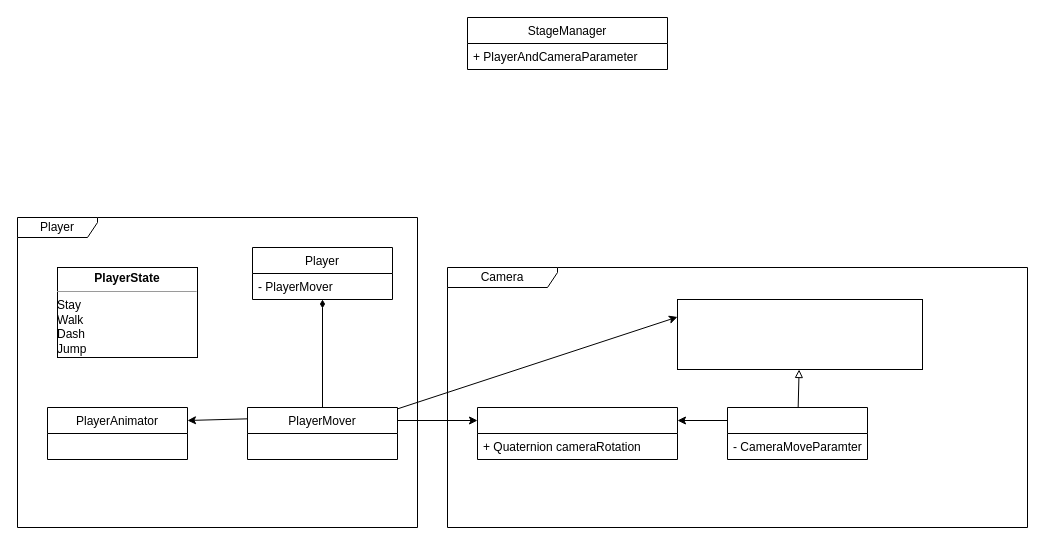
This 1045x545 diagram has some shape labels left out. The box of each missing label's shape, as (x1, y1, x2, y2) in pixels:
<<Interface>> ICameraMoveParamter + ReactivePropety<Vector3> targetPosition: (676, 298, 922, 370)
CameraMover: (726, 406, 868, 460)
CameraToPlayerParameter: (476, 406, 678, 460)
